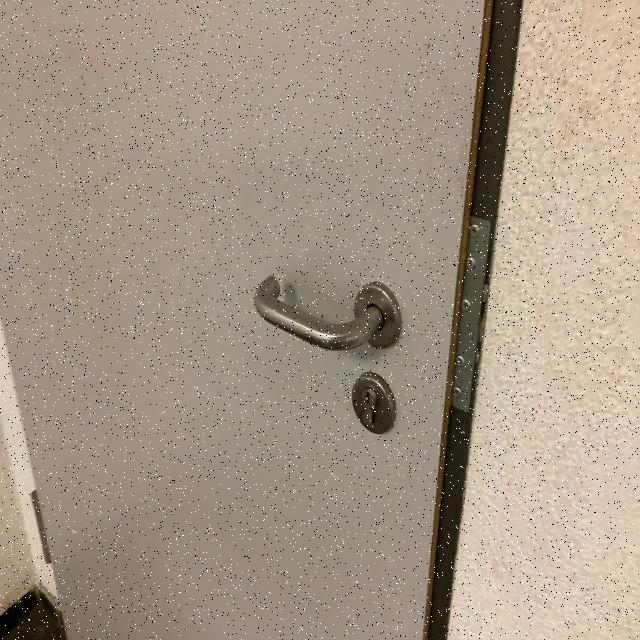doorhandle: (205, 171, 428, 481)
